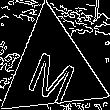M_NE: (23, 36, 81, 102)
